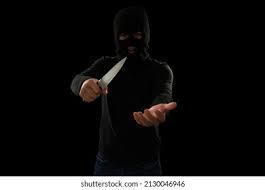Knife: (93, 56, 128, 91)
